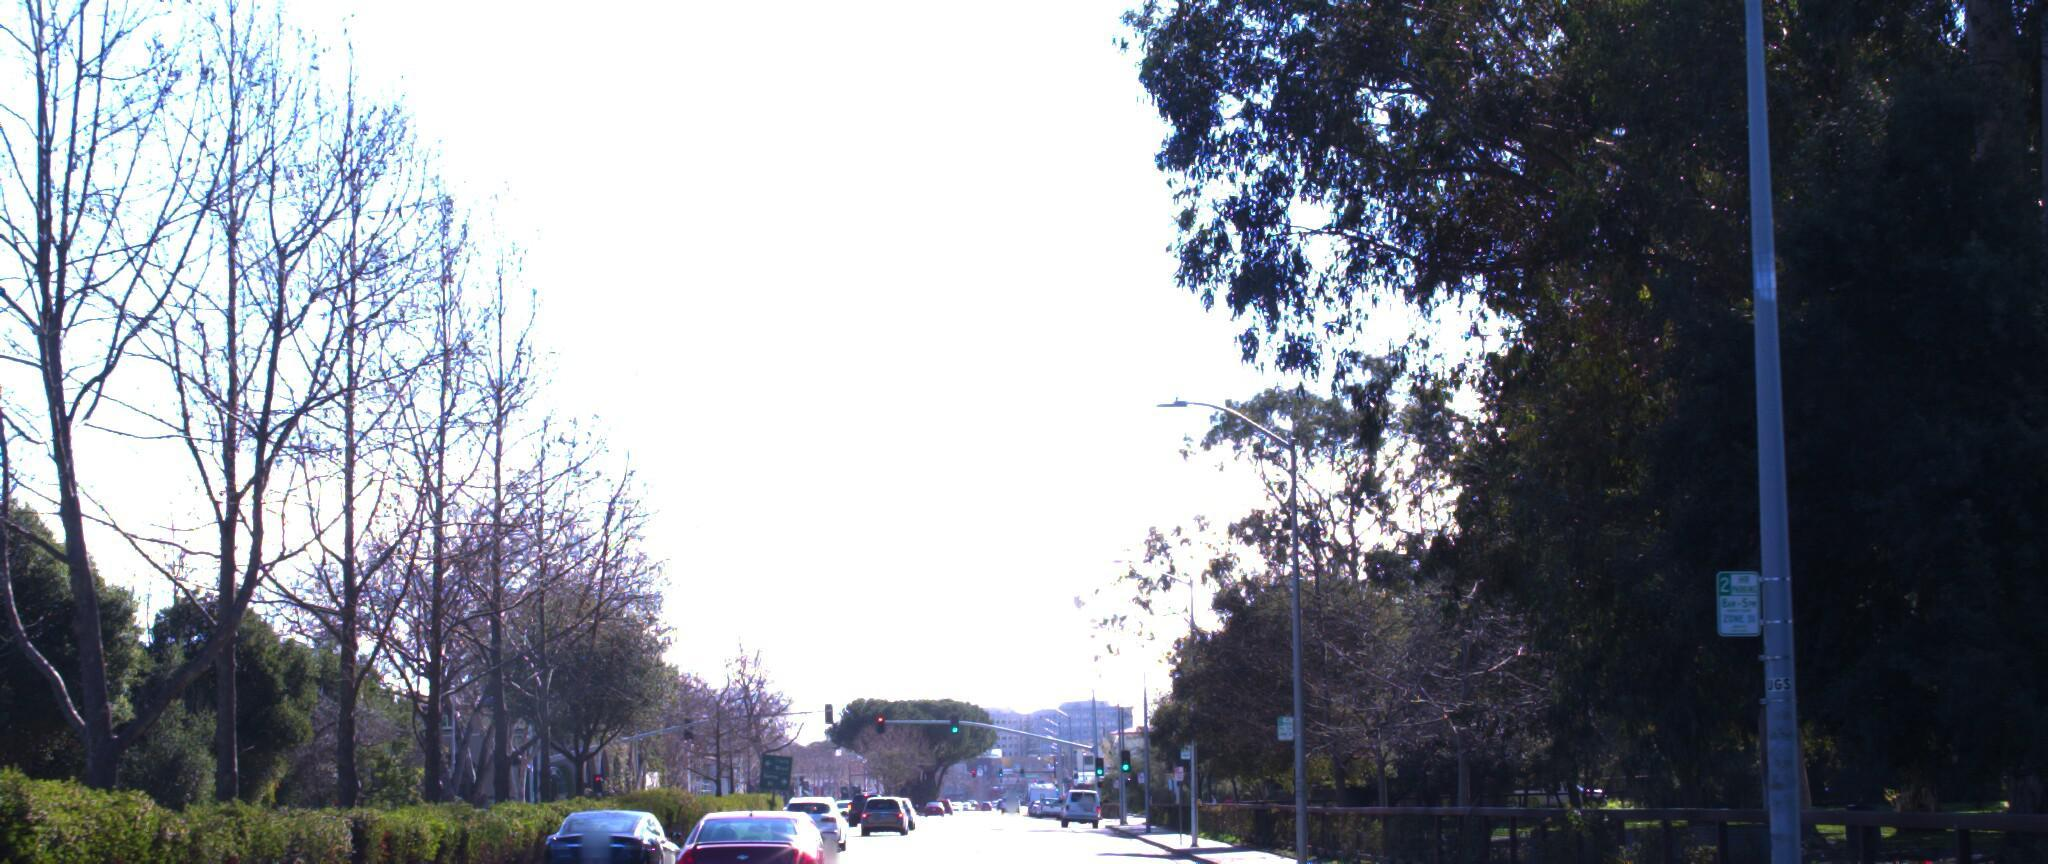car: (654, 790, 842, 864), (533, 796, 679, 864)
